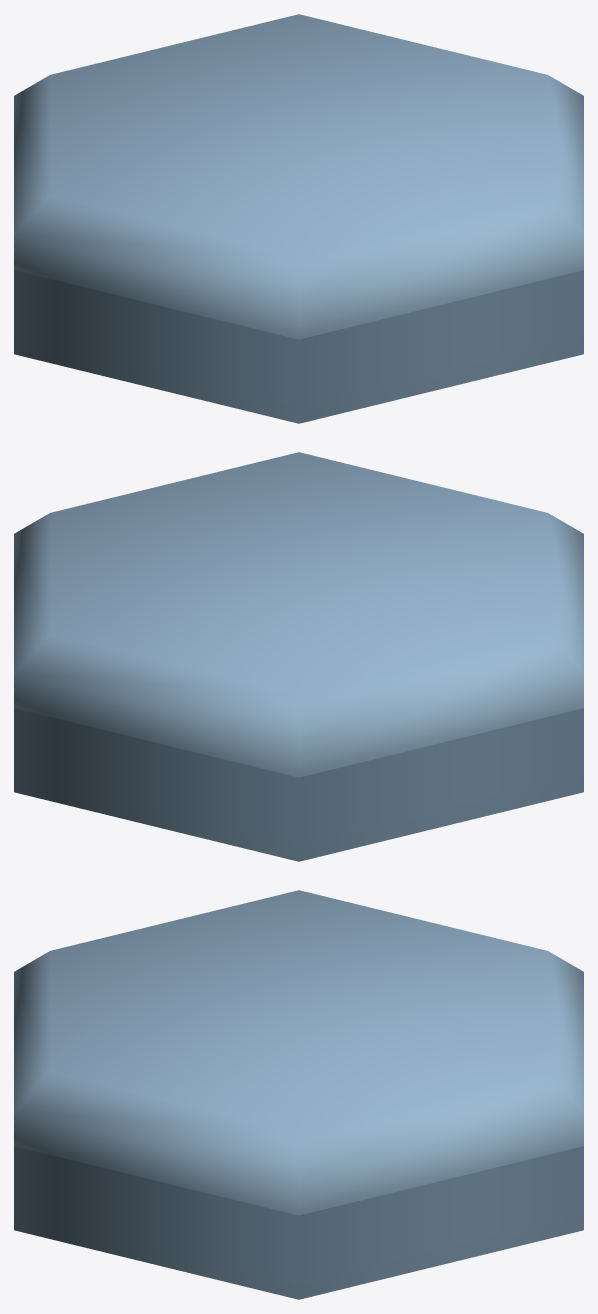
Rendered from hex-01a.glb.
The picture shows the model from 3 angles, top to bottom: view 1: azimuth 30°, elevation 25°; view 2: azimuth 150°, elevation 25°; view 3: azimuth 270°, elevation 25°; orthographic projection.
Visible parts, largest first — view 1: Hex 01A; view 2: Hex 01A; view 3: Hex 01A.
Boxes of the visible parts, x1,y1,x2,y2 form: Hex 01A: (14,14,583,423); Hex 01A: (14,452,583,861); Hex 01A: (14,890,583,1299).
Size of the model in its own units: 4 by 1 by 3.46.
1 material, 1 textured.
